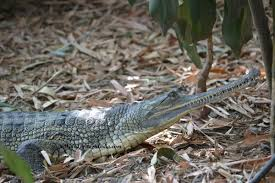Crocodile: (1, 62, 261, 179)
